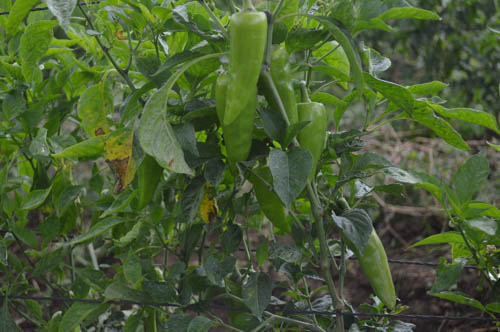ChiliPepper: (224, 14, 267, 128), (217, 76, 254, 158), (357, 236, 397, 307), (272, 56, 298, 131), (254, 168, 287, 227), (299, 104, 326, 174)
